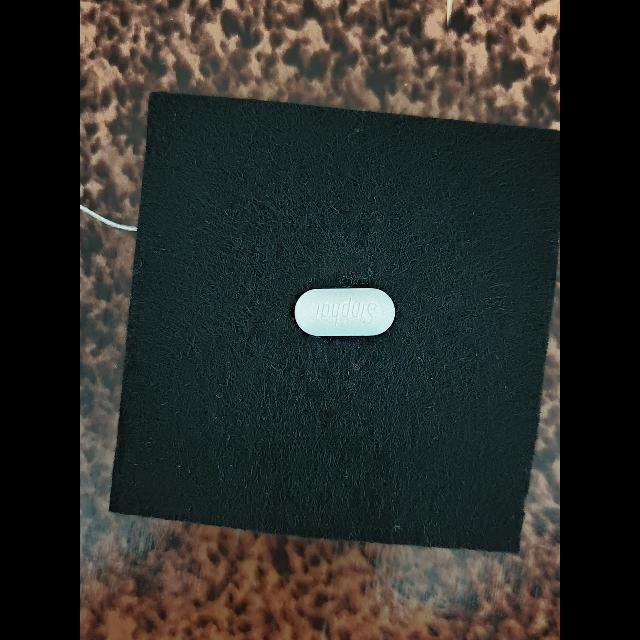Intact Pill: (294, 288, 395, 336)
